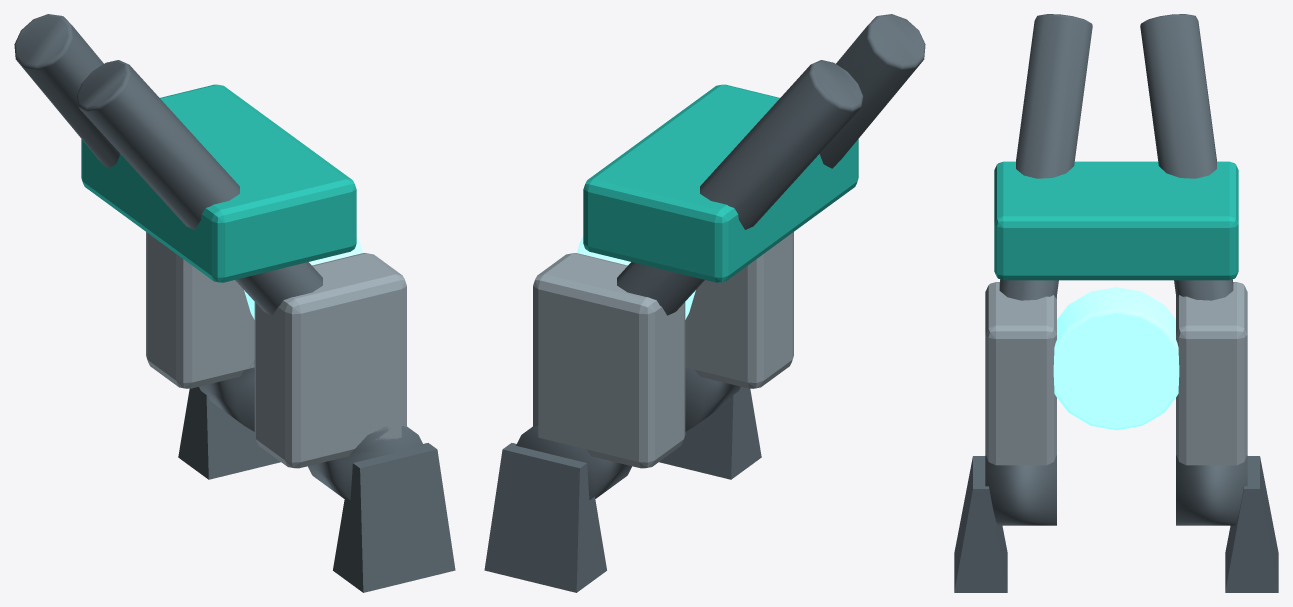
Rendered from SM_Drudge_Tools.fbx.
The picture shows the model from 3 angles, left to right: view 1: azimuth 30°, elevation 25°; view 2: azimuth 150°, elevation 25°; view 3: azimuth 270°, elevation 25°; orthographic projection. The views are drawn at different scales.
Parts seen in each view (by area): view 1: SM_Drudge_Tools; view 2: SM_Drudge_Tools; view 3: SM_Drudge_Tools.
Boxes of the visible parts, x1,y1,x2,y2 form: SM_Drudge_Tools: (14, 14, 455, 592); SM_Drudge_Tools: (484, 14, 925, 592); SM_Drudge_Tools: (954, 14, 1278, 592).
Size of the model in its own units: 11.47 by 11.79 by 18.58.
